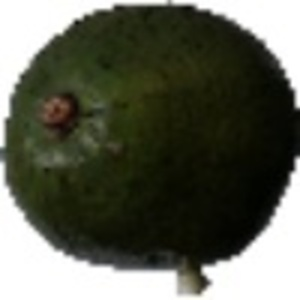abacate: (2, 3, 297, 266)
